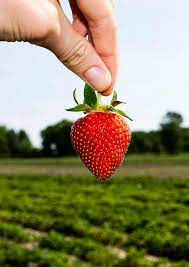ripe: (67, 109, 136, 183)
